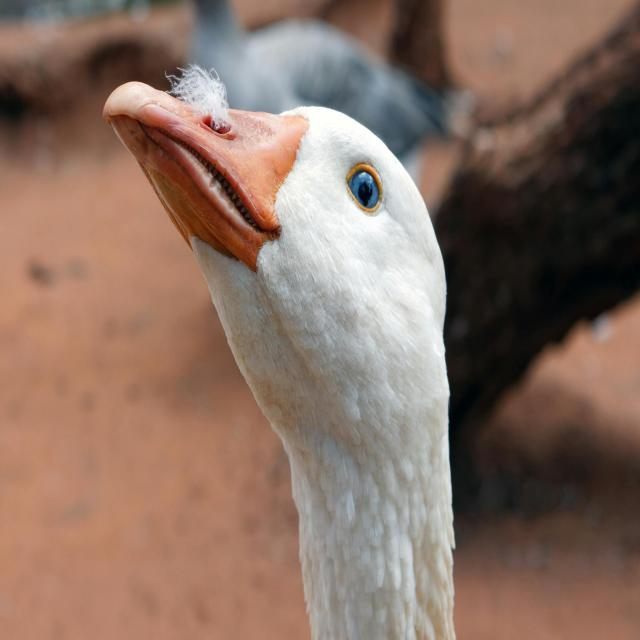Goose: (99, 56, 467, 640)
